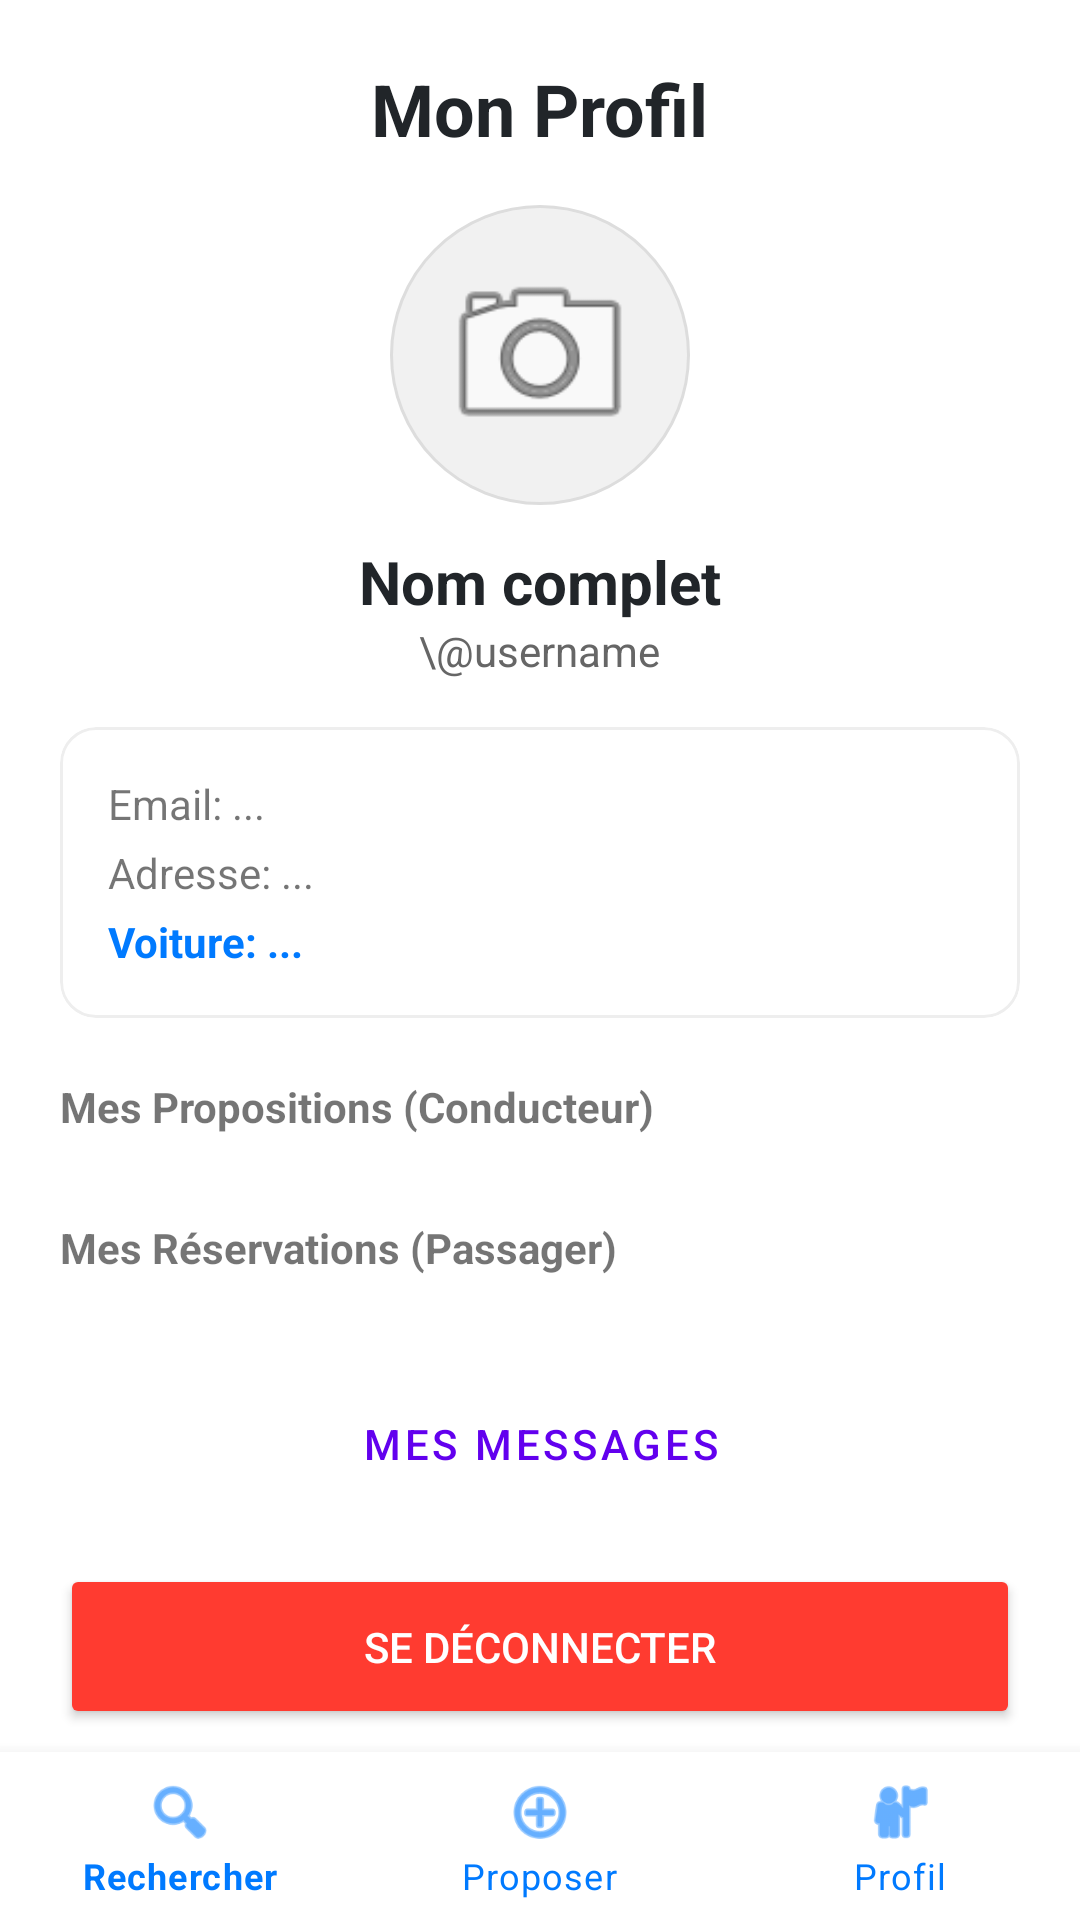

Icons on this 1080 × 1920 Android screen, each with its box as [x1,y1,x2,y2]:
camera: [390,205,690,505]
